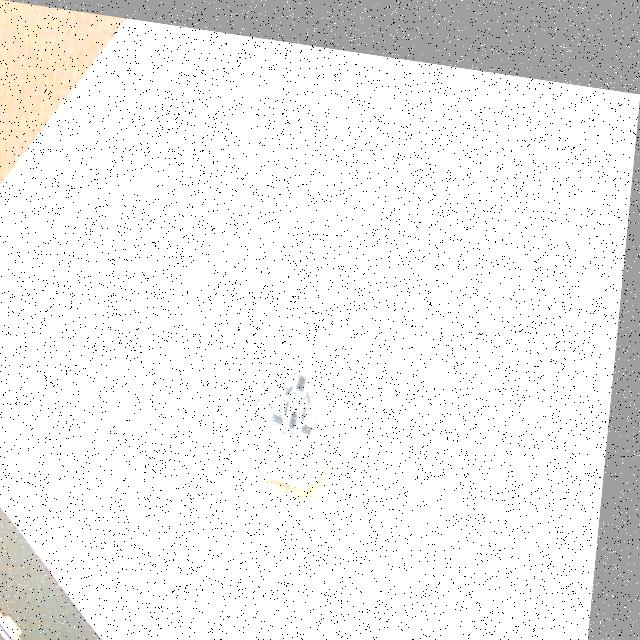adapter: (253, 342, 346, 483)
